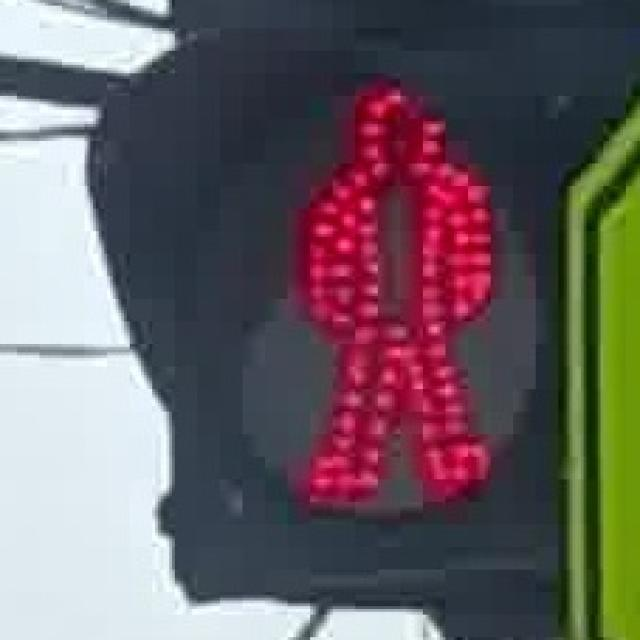red_light: (268, 59, 524, 510)
